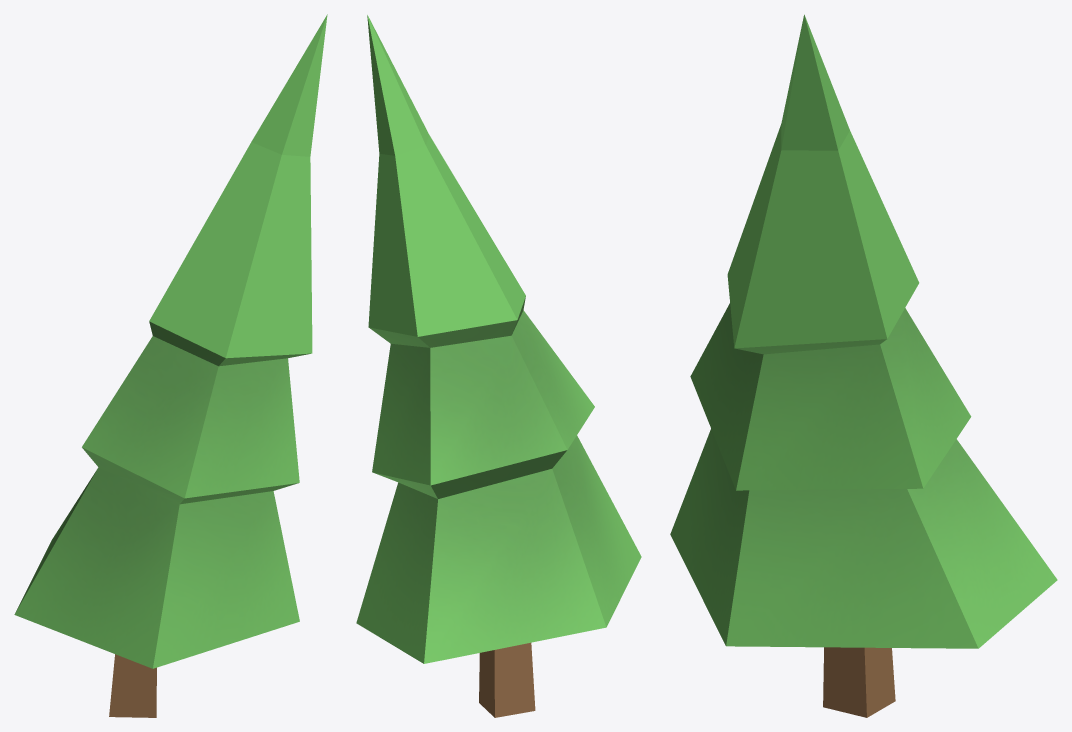
The model's file is Fir_Tree_s_04.fbx.
3 views of the same model, side by side, from view 1: azimuth 30°, elevation 25°; view 2: azimuth 150°, elevation 25°; view 3: azimuth 270°, elevation 25° (orthographic). The views are drawn at different scales.
Parts seen in each view (by area): view 1: Fir_Tree_s_04; view 2: Fir_Tree_s_04; view 3: Fir_Tree_s_04.
Boxes of the visible parts, left/top/right/bottom form: Fir_Tree_s_04: left=14, top=14, right=327, bottom=717; Fir_Tree_s_04: left=356, top=15, right=641, bottom=717; Fir_Tree_s_04: left=670, top=14, right=1057, bottom=717.
Size of the model in its own units: 114 by 258 by 115.
